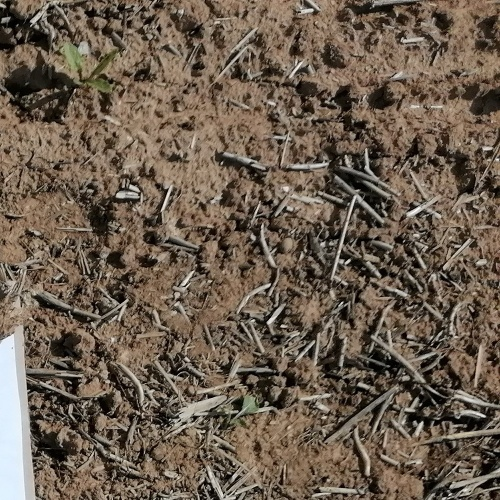beet: (61, 40, 116, 94)
